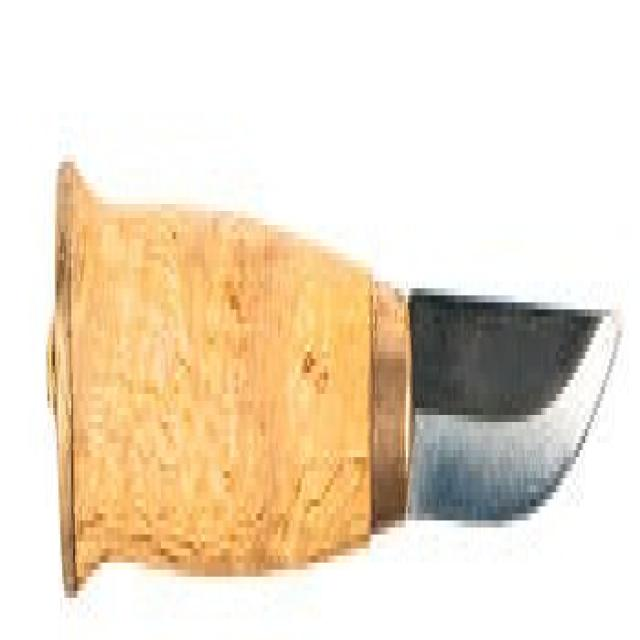knife: (47, 144, 628, 608)
